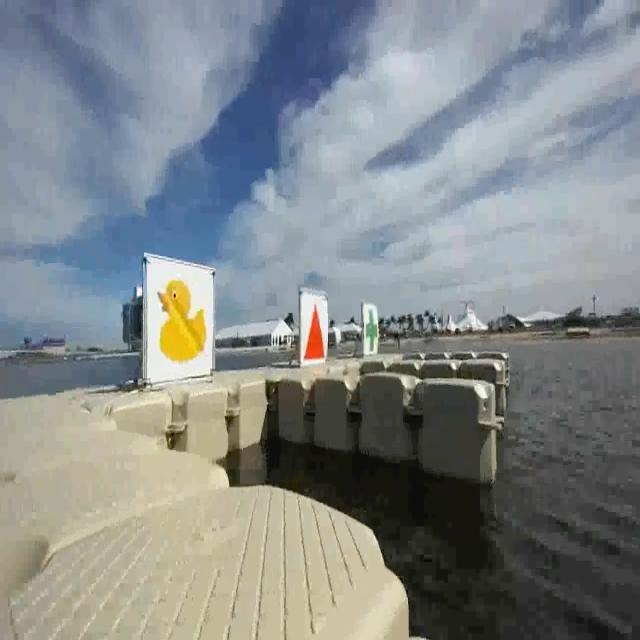blue-cross: (362, 302, 382, 357)
red-dot: (299, 296, 326, 366)
yellow-duck: (156, 277, 209, 364)
